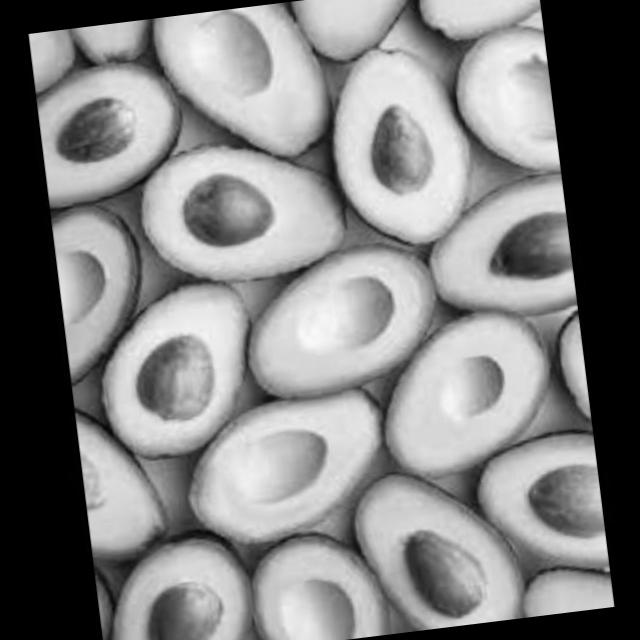avocado: (140, 100, 360, 298), (97, 250, 284, 468), (178, 390, 417, 556), (350, 444, 552, 636), (318, 25, 491, 243), (232, 239, 455, 393), (370, 316, 567, 481), (156, 0, 344, 171), (432, 149, 578, 327), (30, 35, 177, 207), (95, 513, 287, 640), (48, 186, 164, 387), (232, 514, 405, 640), (72, 384, 186, 568), (483, 429, 608, 567), (447, 30, 558, 151), (291, 0, 432, 71), (520, 544, 614, 617), (406, 0, 543, 40)
